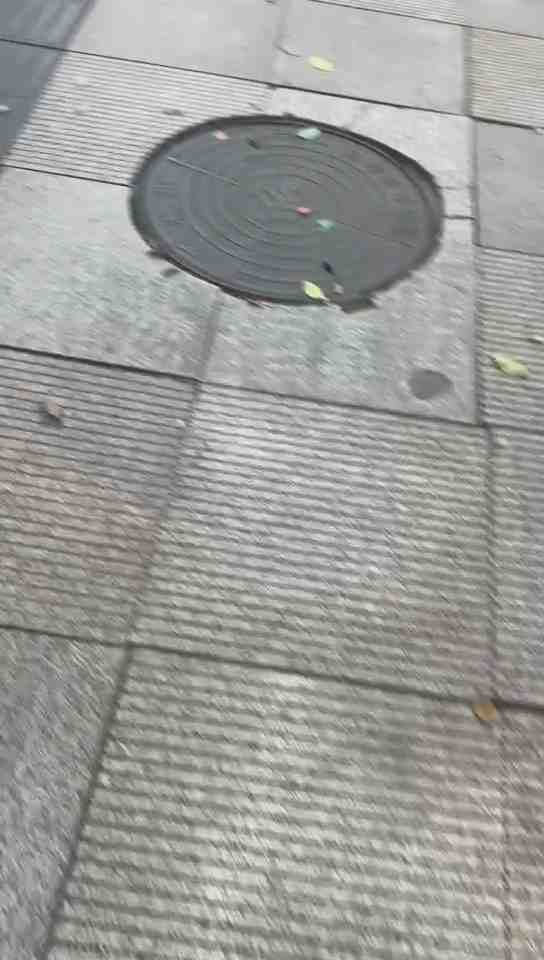leaf: (482, 337, 527, 385), (295, 275, 335, 305), (34, 393, 67, 427), (302, 48, 334, 73)
